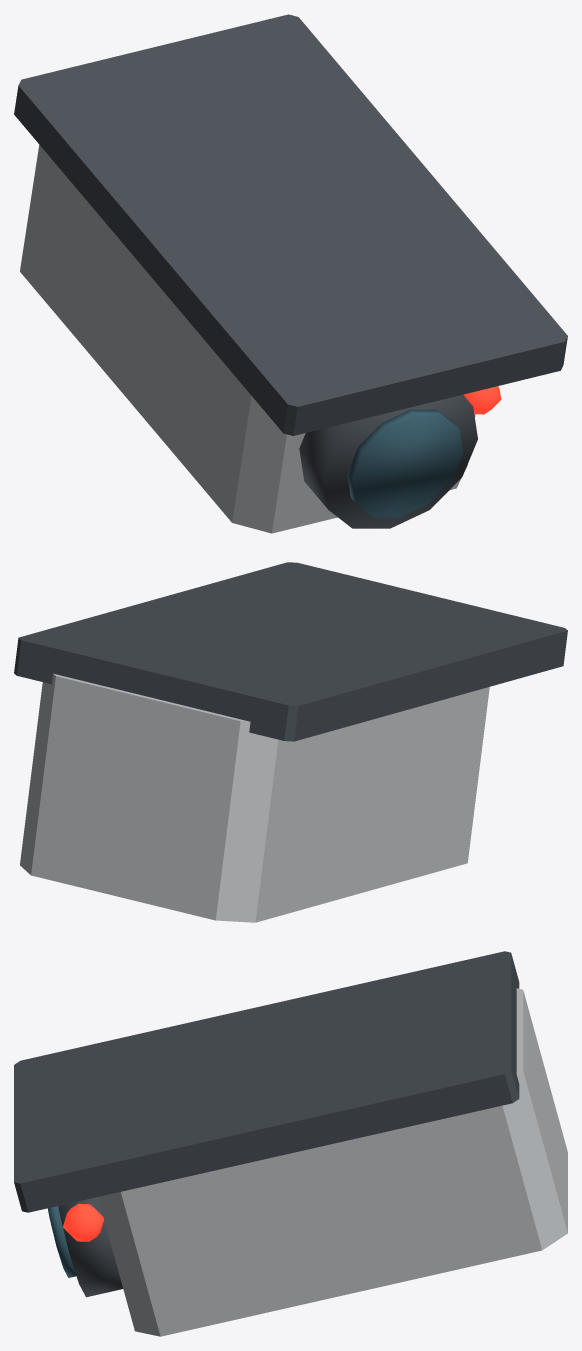
Rendered from cctv-head.glb.
3 views of the same model, one above another, from view 1: azimuth 30°, elevation 25°; view 2: azimuth 150°, elevation 25°; view 3: azimuth 270°, elevation 25° (orthographic). The views are drawn at different scales.
Parts seen in each view (by area): view 1: Black lens surround, Weatherproof CCTV body, Visible optical lens, Recording indicator; view 2: Weatherproof CCTV body, Black lens surround; view 3: Black lens surround, Weatherproof CCTV body, Recording indicator, Visible optical lens.
Part boxes in pixels (left/top/right/bottom): Black lens surround: left=14, top=14, right=567, bottom=528; Weatherproof CCTV body: left=20, top=145, right=475, bottom=533; Visible optical lens: left=347, top=409, right=463, bottom=517; Recording indicator: left=463, top=386, right=501, bottom=414; Weatherproof CCTV body: left=20, top=673, right=489, bottom=922; Black lens surround: left=14, top=562, right=567, bottom=741; Black lens surround: left=14, top=951, right=519, bottom=1297; Weatherproof CCTV body: left=98, top=988, right=567, bottom=1336; Recording indicator: left=63, top=1203, right=103, bottom=1241; Visible optical lens: left=47, top=1206, right=76, bottom=1277.
Bounding box in the file's own units: 0.88 × 0.933 × 1.68.
